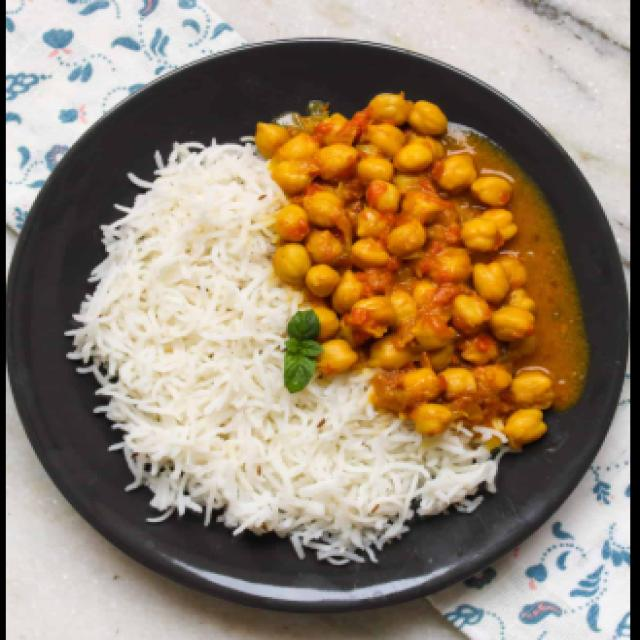rice: (69, 144, 497, 564)
